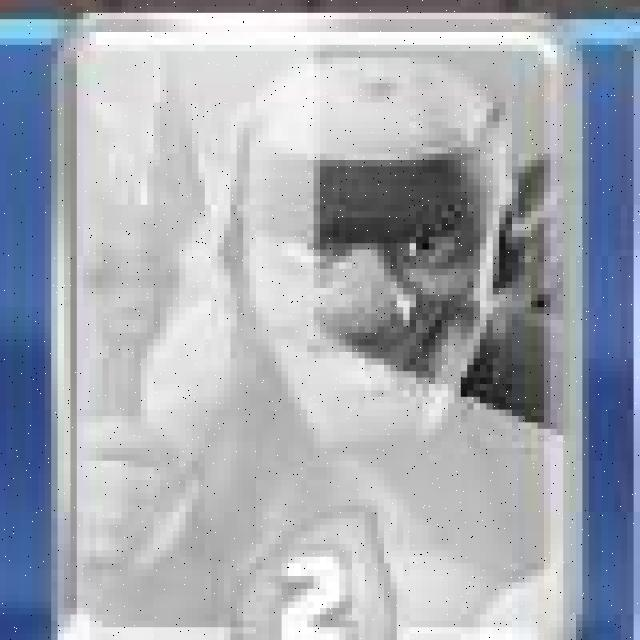Spear_Goblins: (54, 14, 586, 640)
